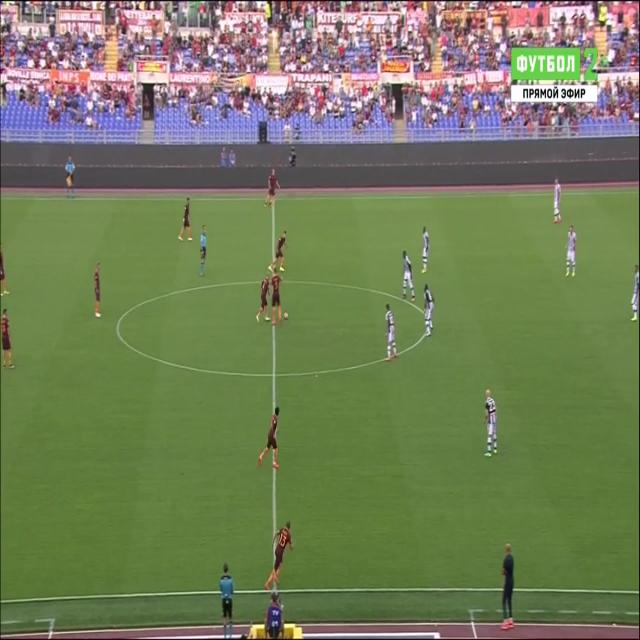Ball: (282, 308, 289, 321)
Player: (257, 402, 282, 474), (0, 303, 16, 373), (255, 273, 272, 329), (268, 227, 288, 273), (176, 196, 194, 244), (270, 268, 283, 330), (263, 168, 281, 210), (92, 262, 104, 322)
Referee: (219, 563, 235, 634), (197, 222, 209, 279), (65, 154, 77, 200)
